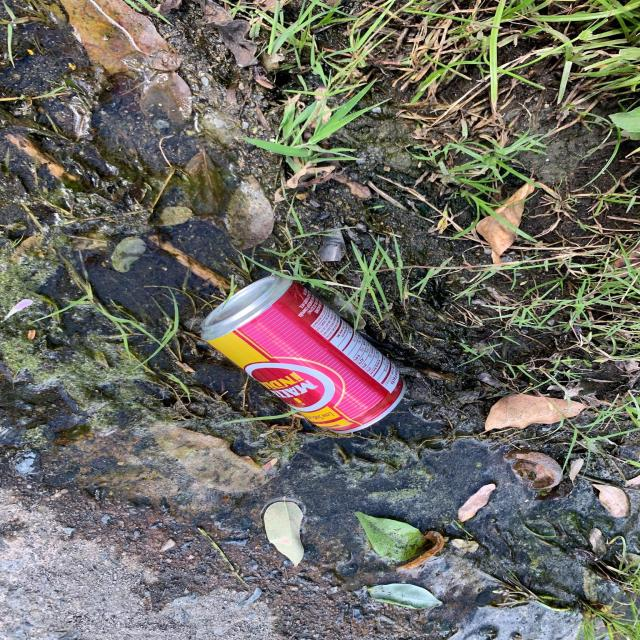litter: (196, 273, 408, 435)
